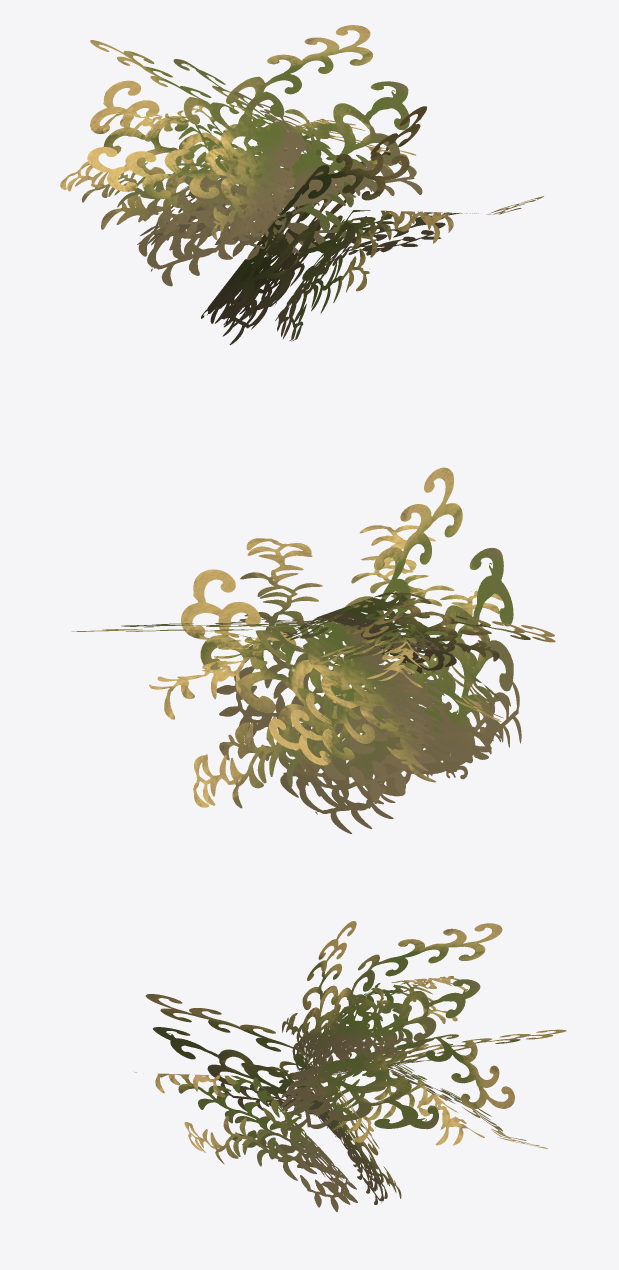
Rendered from CurlPlant1.fbx.
3 renders of one model, top to bottom at view 1: azimuth 30°, elevation 25°; view 2: azimuth 150°, elevation 25°; view 3: azimuth 270°, elevation 25°, orthographic. The views are drawn at different scales.
Parts seen in each view (by area): view 1: CurlPlant; view 2: CurlPlant; view 3: CurlPlant.
Part boxes in pixels (bbox=[...]): CurlPlant: bbox=[60, 25, 543, 344]; CurlPlant: bbox=[71, 467, 555, 833]; CurlPlant: bbox=[133, 921, 566, 1211].
Size of the model in its own units: 137 by 82.08 by 157.
